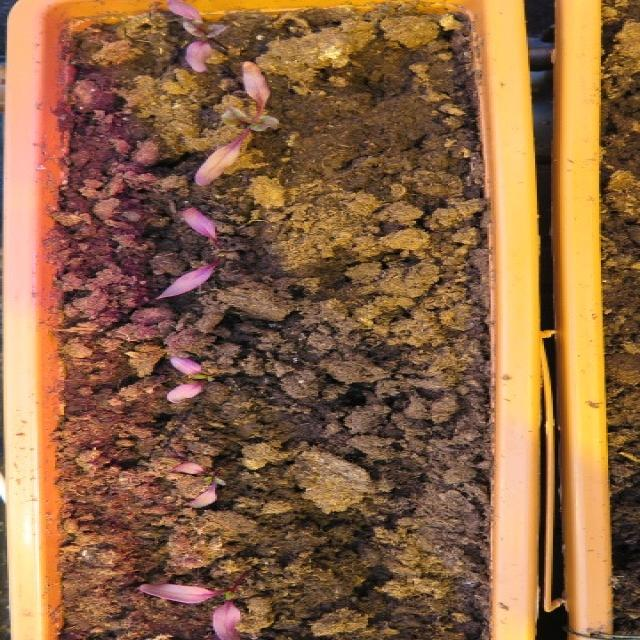crop: (150, 198, 220, 301), (162, 455, 229, 508), (162, 348, 213, 405)
